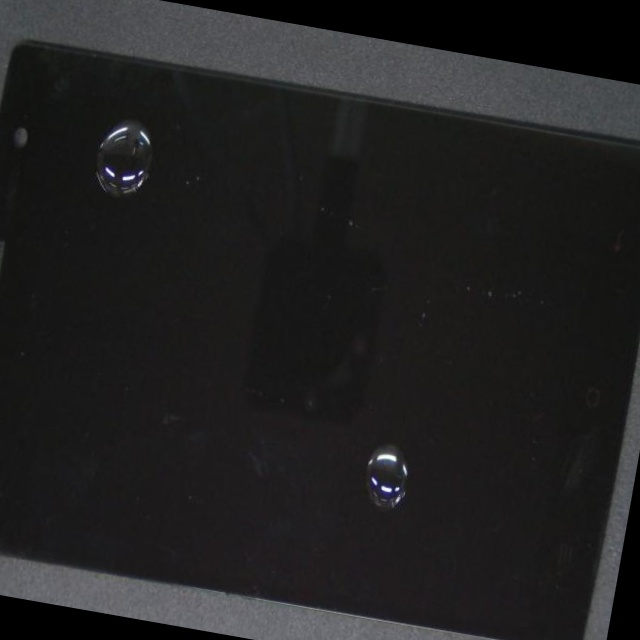oil: (143, 204, 640, 640), (64, 87, 259, 249)
